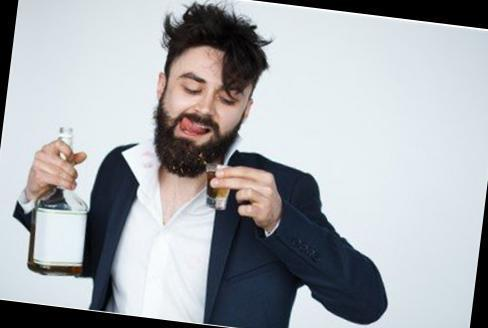Drunk: (165, 52, 242, 156)
